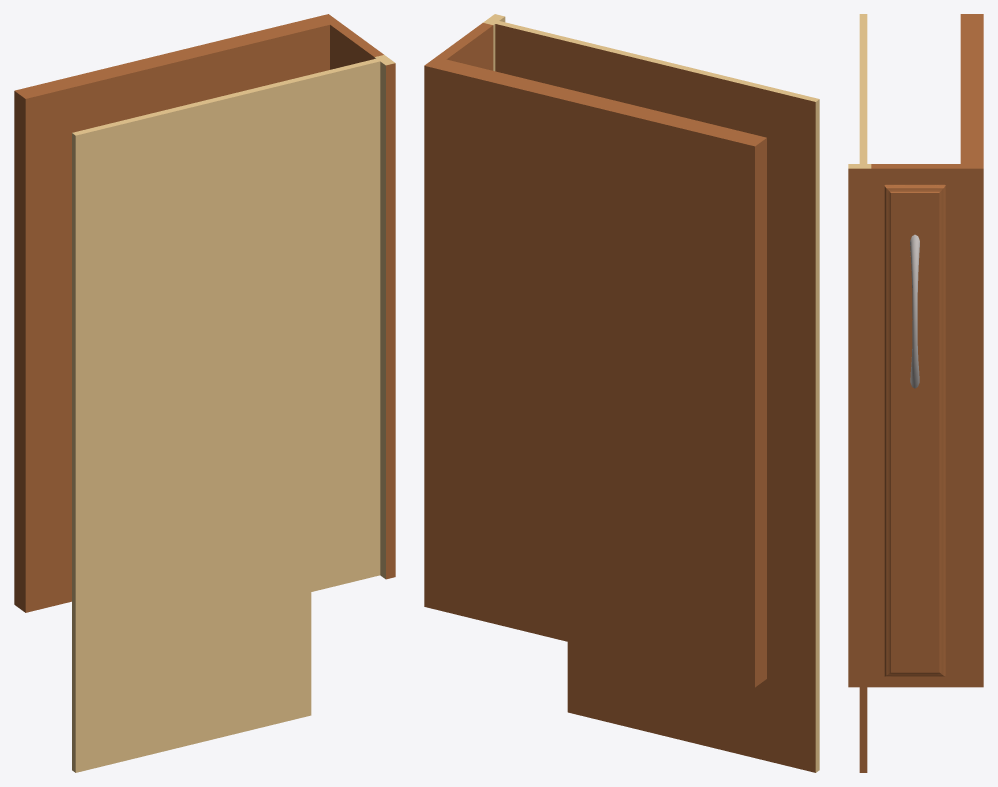
The model's file is kitchen_dishwasher_right.dae.
The picture shows the model from 3 angles, left to right: view 1: azimuth 30°, elevation 25°; view 2: azimuth 150°, elevation 25°; view 3: azimuth 270°, elevation 25°; orthographic projection. The views are drawn at different scales.
Visible parts, largest first — view 1: E1_10, group_0, E2_7, E3_7, VS_9 (×2), group_1; view 2: group_0, E1_10 (×2), E3_7, E2_7, group_1; view 3: DF_41_CC, group_1, group_0, VS_9, DF_41_CR, DF_41_CL, instance_10, E1_10, E3_7, DF_41_TC, E2_7.
Part boxes in pixels (x1,y1,x2,y2): E1_10: (72,75,311,649); group_0: (14,14,339,612); E2_7: (308,58,380,591); E3_7: (72,592,311,772); VS_9 (×2): (374,55,395,579); group_1: (330,22,383,69); group_0: (424,57,766,687); E1_10 (×2): (567,38,819,642); E3_7: (567,631,815,772); E2_7: (495,24,567,88); group_1: (436,23,493,70); DF_41_CC: (893,193,936,671); group_1: (871,164,960,687); group_0: (960,14,983,687); VS_9: (848,168,871,687); DF_41_CR: (936,192,945,671); DF_41_CL: (884,192,893,671); instance_10: (910,234,919,388); E1_10: (859,14,867,129); E3_7: (859,687,867,772); DF_41_TC: (893,184,936,193); E2_7: (859,130,867,163).
Size of the model in its own units: 26.12 by 8.88 by 46.5.
